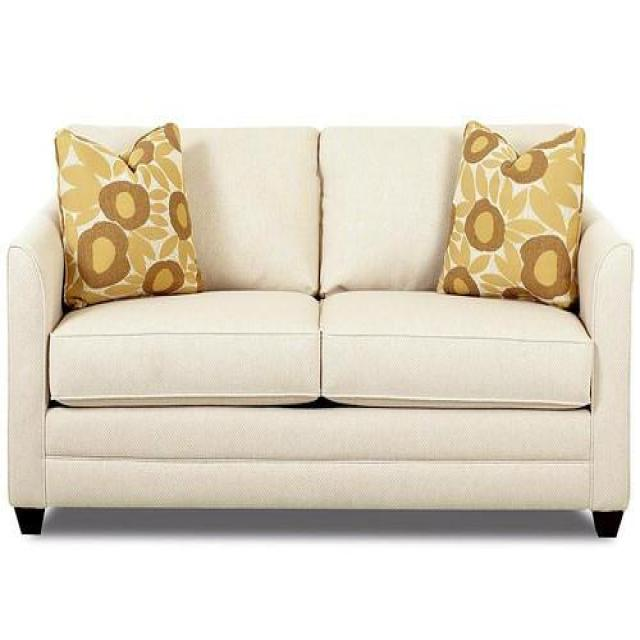sofa: (5, 117, 636, 541)
